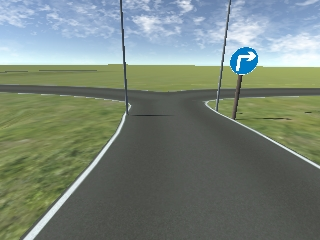right: (230, 47, 258, 75)
